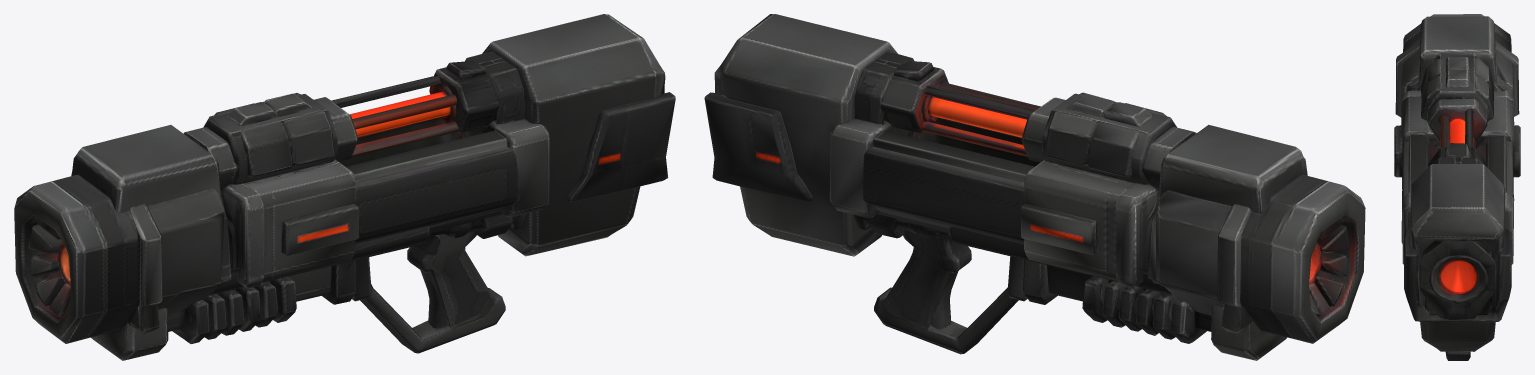
The model's file is Meshy_AI_Crimson_Hex_Cannon_0721054532_texture.fbx.
3 renders of one model, left to right at view 1: azimuth 30°, elevation 25°; view 2: azimuth 150°, elevation 25°; view 3: azimuth 270°, elevation 25°, orthographic. The views are drawn at different scales.
Visible parts, largest first — view 1: Mesh_0; view 2: Mesh_0; view 3: Mesh_0.
Part boxes in pixels (<box>): Mesh_0: <box>14,14,675,360</box>; Mesh_0: <box>704,14,1365,360</box>; Mesh_0: <box>1394,14,1520,360</box>.
Size of the model in its own units: 100 by 44.73 by 23.49.
Materials: 1 (1 with a texture image).
